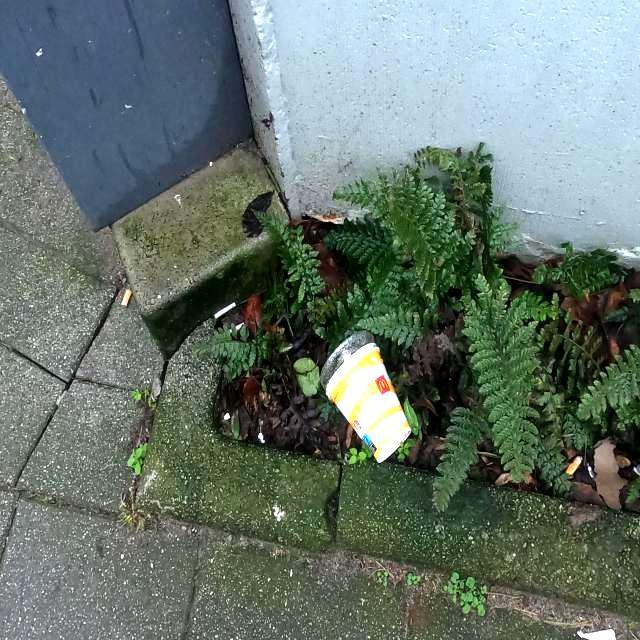Coffee Cup: (316, 325, 414, 469)
